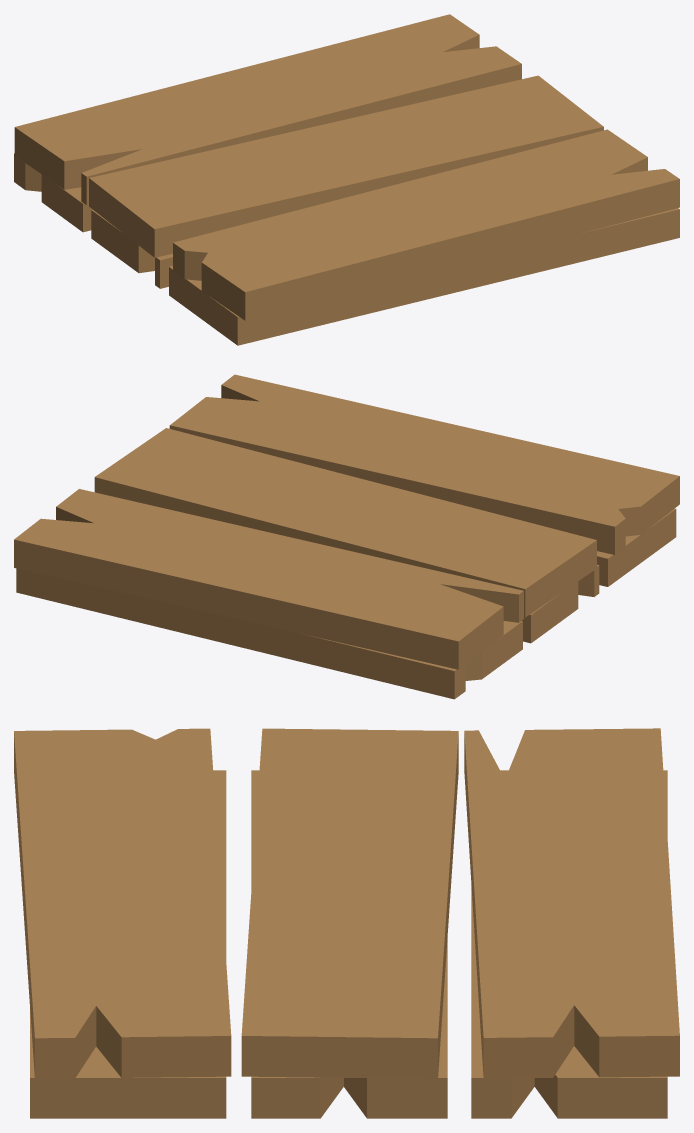
The model's file is SRA_Wood_Plank_Stack_01.glb.
The picture shows the model from 3 angles, top to bottom: view 1: azimuth 30°, elevation 25°; view 2: azimuth 150°, elevation 25°; view 3: azimuth 270°, elevation 25°; orthographic projection. The views are drawn at different scales.
Parts seen in each view (by area): view 1: Wood_Plank_Stack_01; view 2: Wood_Plank_Stack_01; view 3: Wood_Plank_Stack_01.
Boxes of the visible parts, x1=… form: Wood_Plank_Stack_01: x1=14, y1=14, x2=679, y2=345; Wood_Plank_Stack_01: x1=14, y1=374, x2=679, y2=699; Wood_Plank_Stack_01: x1=14, y1=728, x2=679, y2=1118.
Size of the model in its own units: 0.9217 by 0.1129 by 0.8371.
Materials: 1 (1 with a texture image).
